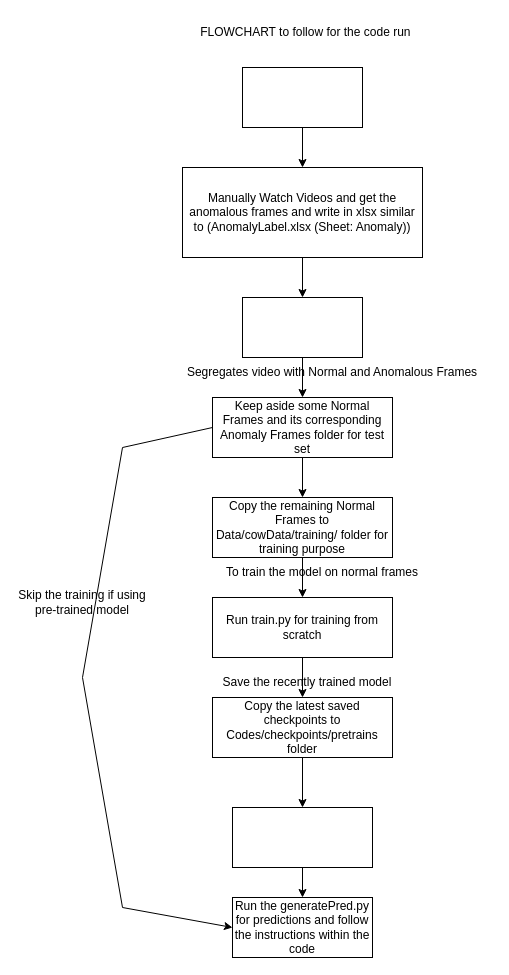
Image size: 509x975. Some labels were removed from this diagram. Here are the shapes that lost their labels. From the top down, the centre of each, then its label:
At point (302, 97): "Videos".
At point (302, 327): "Run videoToFrame.py".
At point (302, 837): "Put the test set video to Data/cowData/testing folder".
